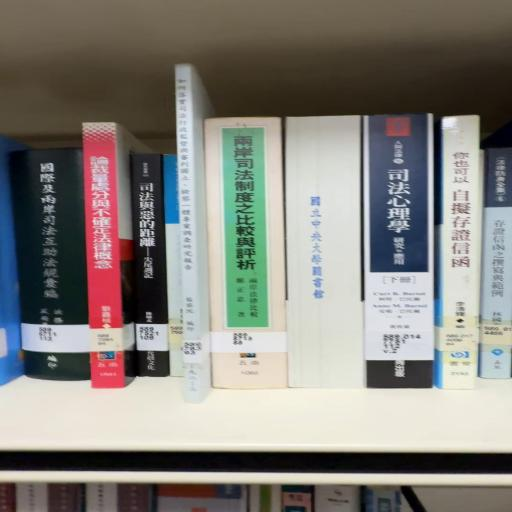backward: (286, 116, 366, 389)
book: (14, 146, 89, 380), (436, 115, 485, 394), (86, 124, 130, 386), (130, 152, 169, 386), (479, 143, 511, 387)
